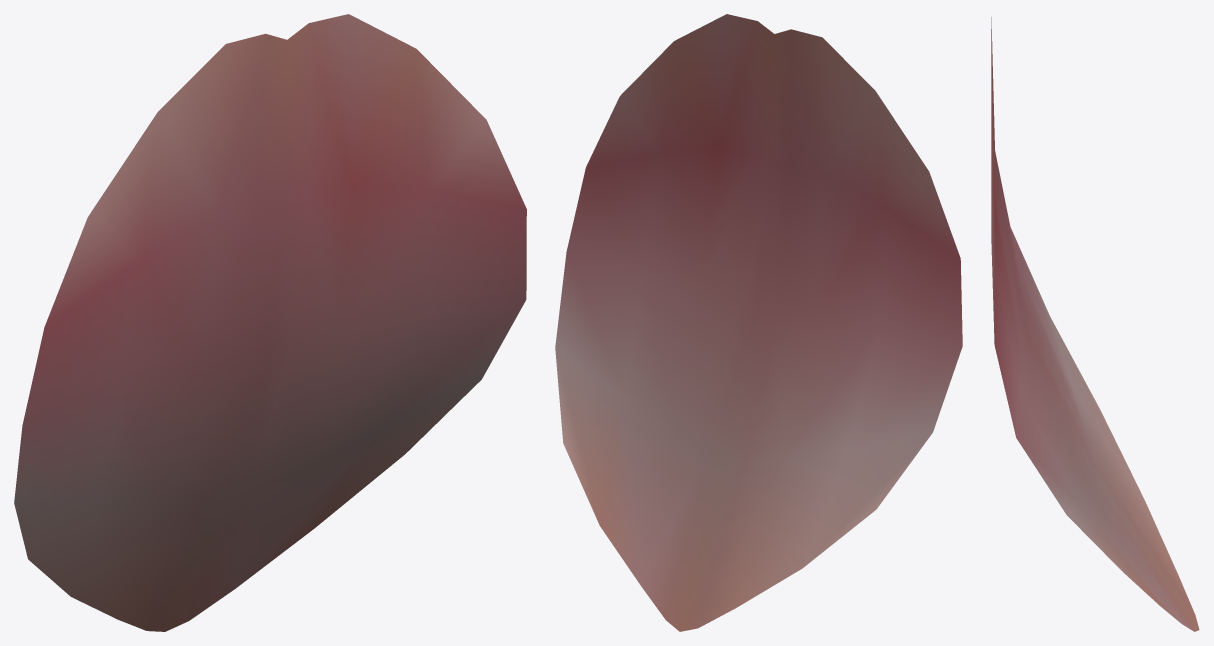
The model's file is Petal.glb.
3 views of the same model, side by side, from view 1: azimuth 30°, elevation 25°; view 2: azimuth 150°, elevation 25°; view 3: azimuth 270°, elevation 25° (orthographic). The views are drawn at different scales.
Parts seen in each view (by area): view 1: Petal; view 2: Petal; view 3: Petal.
Boxes of the visible parts, bbox=[...] form: Petal: bbox=[14, 14, 526, 631]; Petal: bbox=[555, 14, 962, 631]; Petal: bbox=[991, 17, 1199, 631].
Size of the model in its own units: 15.52 by 20.25 by 6.46.
